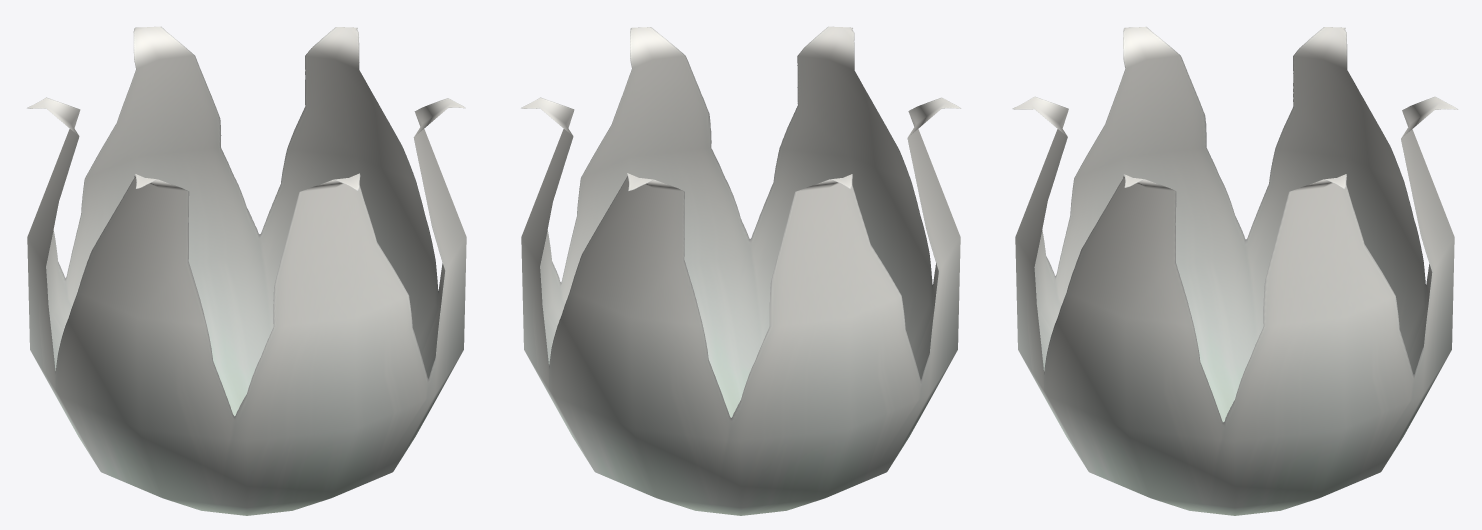
File: LilyValley.fbx
3 renders of one model, left to right at view 1: azimuth 30°, elevation 25°; view 2: azimuth 150°, elevation 25°; view 3: azimuth 270°, elevation 25°, orthographic.
Parts seen in each view (by area): view 1: LilyValley; view 2: LilyValley; view 3: LilyValley.
Part boxes in pixels (bbox=[...]): LilyValley: bbox=[27, 26, 466, 515]; LilyValley: bbox=[521, 26, 961, 515]; LilyValley: bbox=[1012, 26, 1458, 515].
Size of the model in its own units: 10.32 by 9.83 by 10.32.
